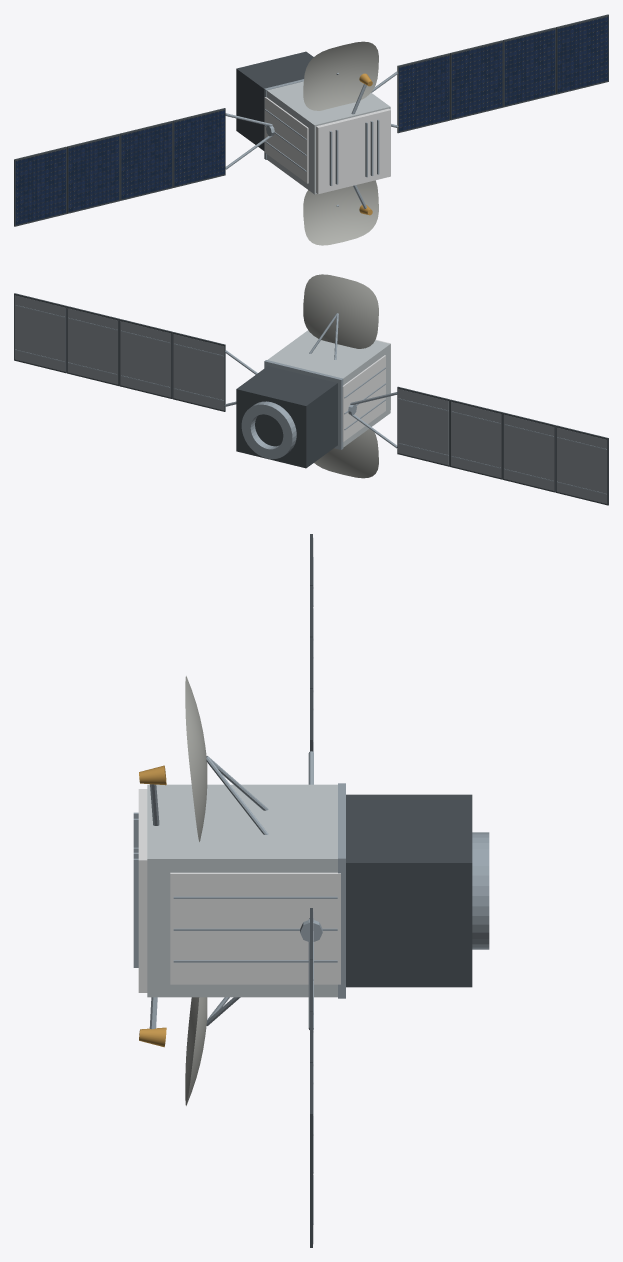
The model's file is ref-star-2-37265.glb.
3 views of the same model, one above another, from view 1: azimuth 30°, elevation 25°; view 2: azimuth 150°, elevation 25°; view 3: azimuth 270°, elevation 25° (orthographic). The views are drawn at different scales.
Parts seen in each view (by area): view 1: Solar cell panel (×8), Communications reflector (×2), Earth-facing deck, Solar panel frame (×8), Service module, Payload module, Radiator face; view 2: Rear array substrate (×8), Service module, Communications reflector (×2), Payload module, Solar panel frame (×8), Radiator face, Launch adapter ring, Module interface; view 3: Service module, Payload module, Radiator face, Communications reflector (×2), Launch adapter ring, Earth-facing deck, Module interface.
Part boxes in pixels (x1,y1,x2,y2): Solar cell panel (×8): [15, 16, 608, 225]; Communications reflector (×2): [303, 41, 378, 245]; Earth-facing deck: [316, 108, 390, 194]; Solar panel frame (×8): [14, 14, 608, 226]; Service module: [236, 51, 313, 150]; Payload module: [267, 81, 390, 194]; Radiator face: [264, 97, 308, 183]; Rear array substrate (×8): [14, 295, 607, 503]; Service module: [236, 366, 337, 468]; Communications reflector (×2): [303, 274, 378, 478]; Payload module: [268, 330, 390, 447]; Solar panel frame (×8): [14, 293, 608, 505]; Radiator face: [342, 355, 385, 441]; Launch adapter ring: [241, 401, 296, 459]; Module interface: [264, 360, 343, 449]; Service module: [346, 794, 472, 987]; Payload module: [147, 784, 337, 997]; Radiator face: [170, 872, 340, 984]; Communications reflector (×2): [185, 676, 207, 1105]; Launch adapter ring: [472, 832, 489, 949]; Earth-facing deck: [138, 789, 147, 992]; Module interface: [338, 783, 345, 998].
Bounding box in the file's own units: 17.98 × 5.7 × 4.66.
Materials: 8 (1 with a texture image).
